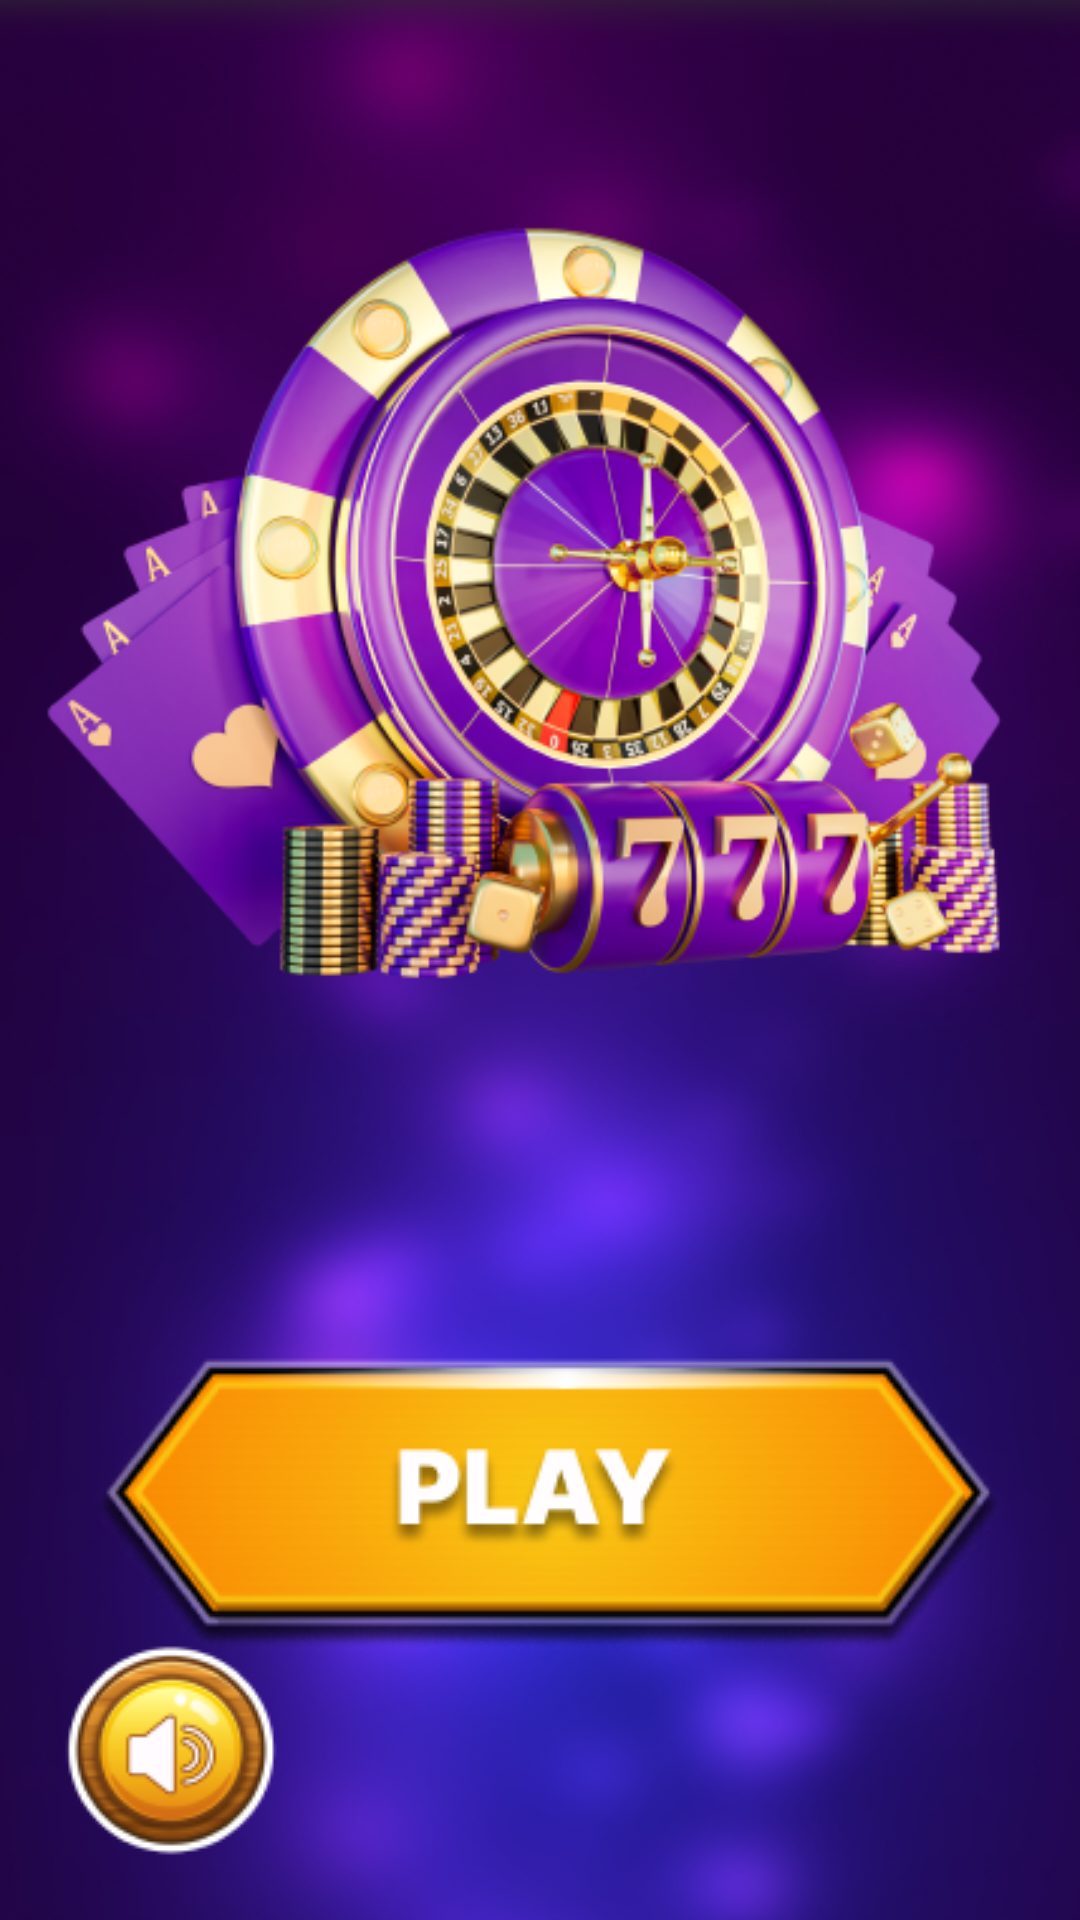

Named icons in this screenshot (1080px×1920px) and their centers, [x,y]:
sound: [169,1750]
